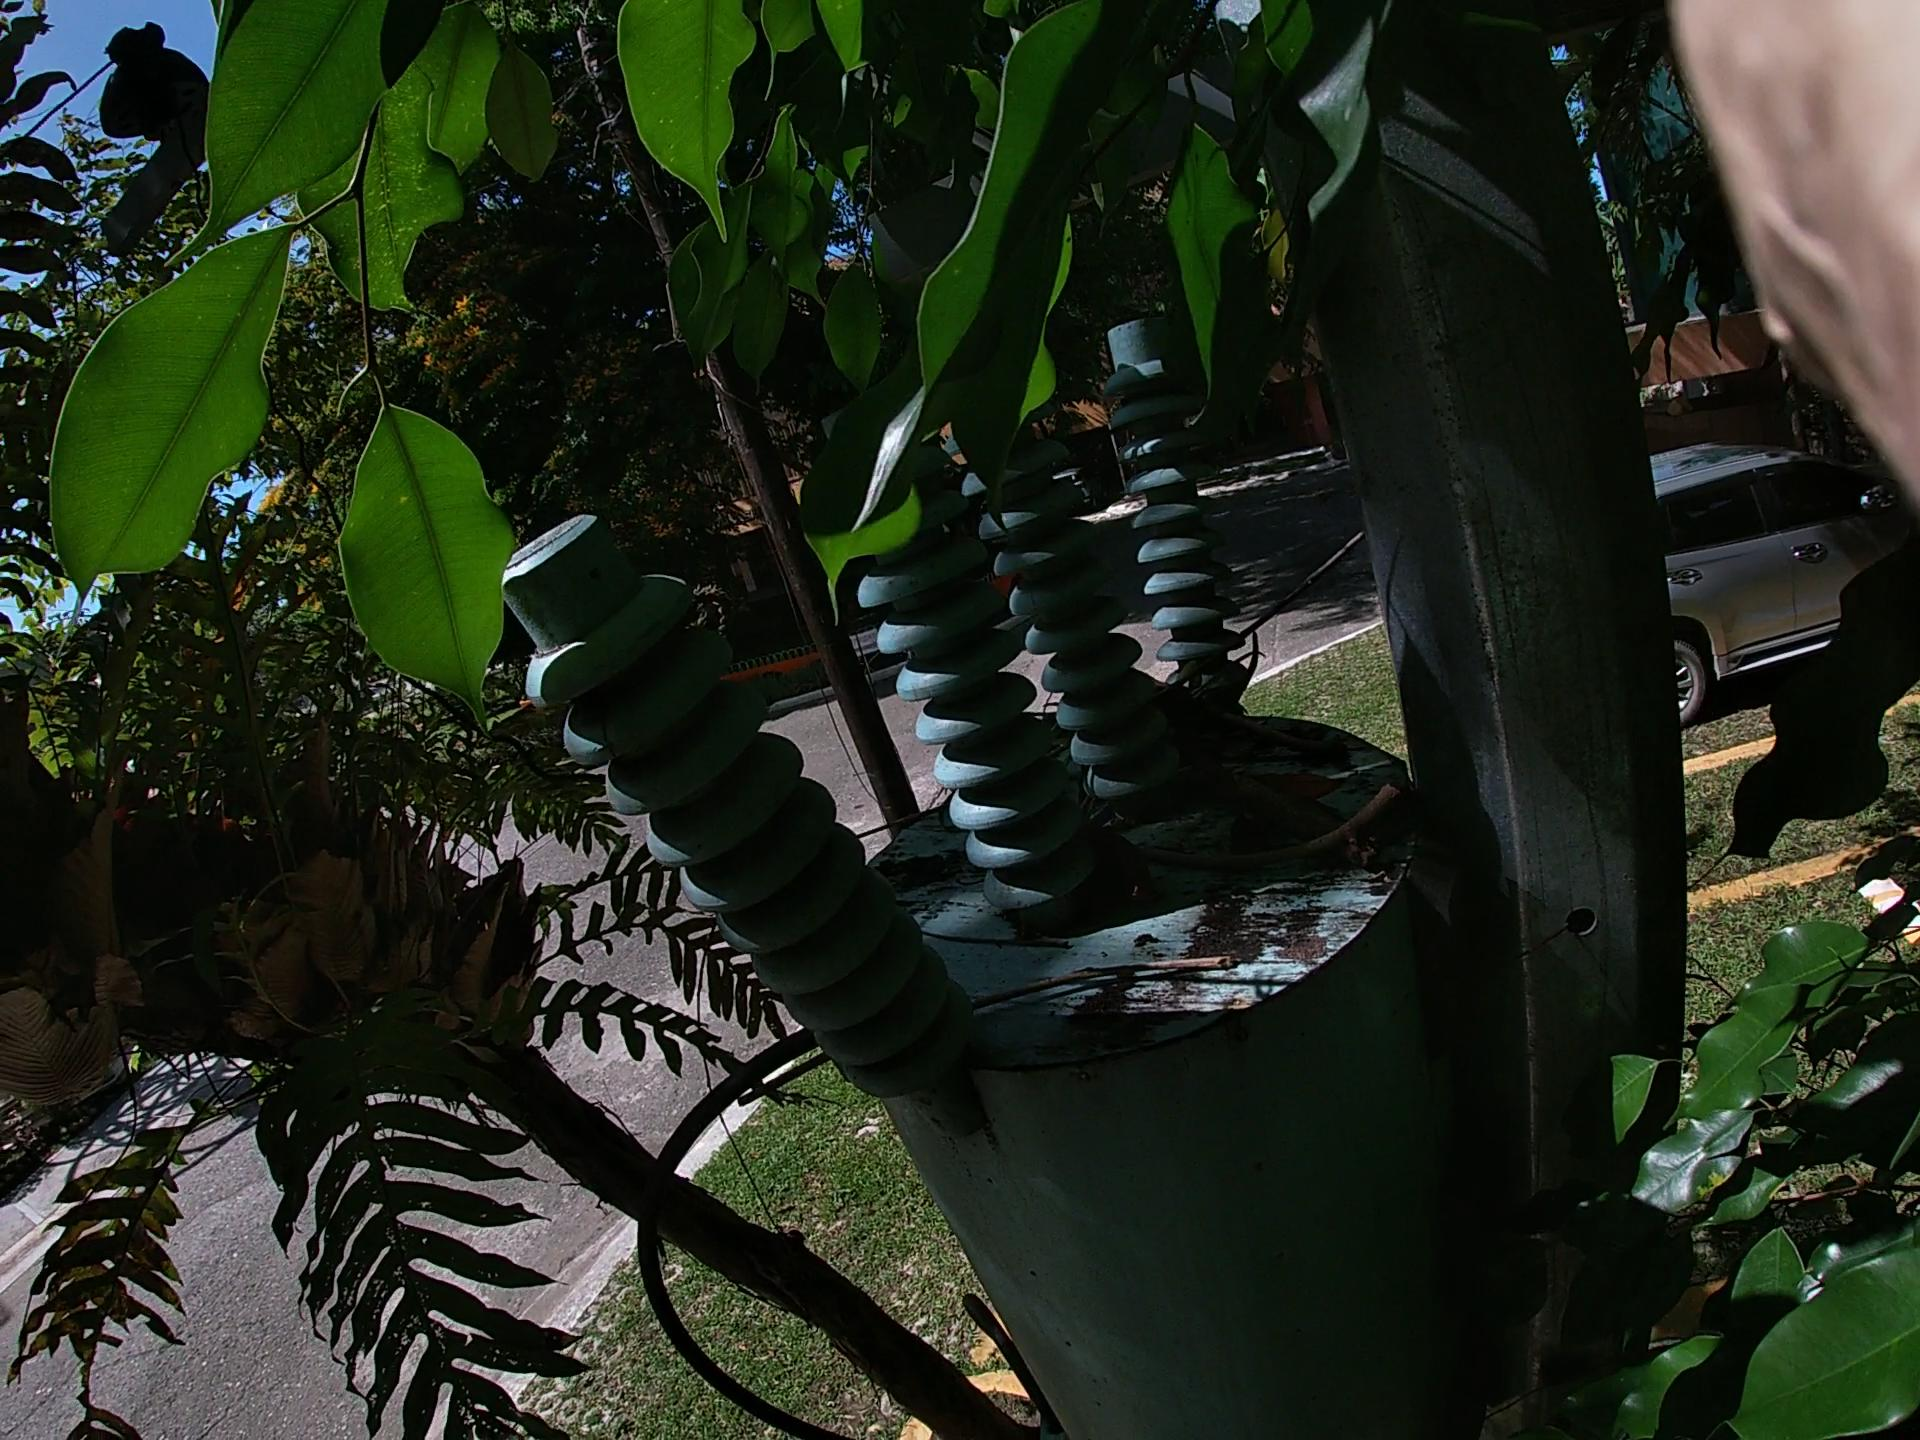leaf: (1232, 744, 1311, 806)
tree branch: (590, 499, 1495, 1411), (665, 883, 1365, 1066), (1058, 811, 1479, 889), (1179, 737, 1330, 942)
